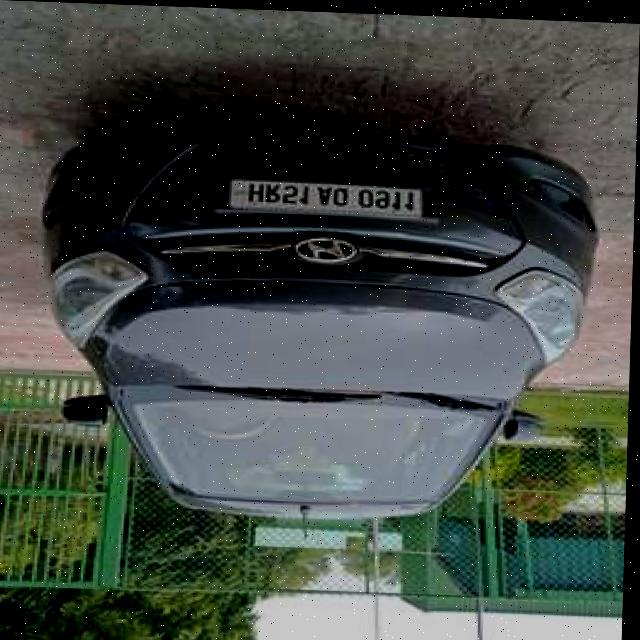plate: (230, 176, 426, 217)
